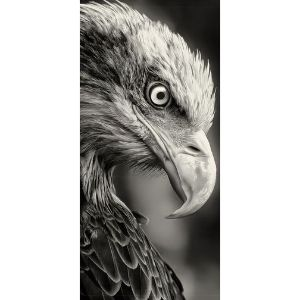eagle: (80, 1, 219, 300)
